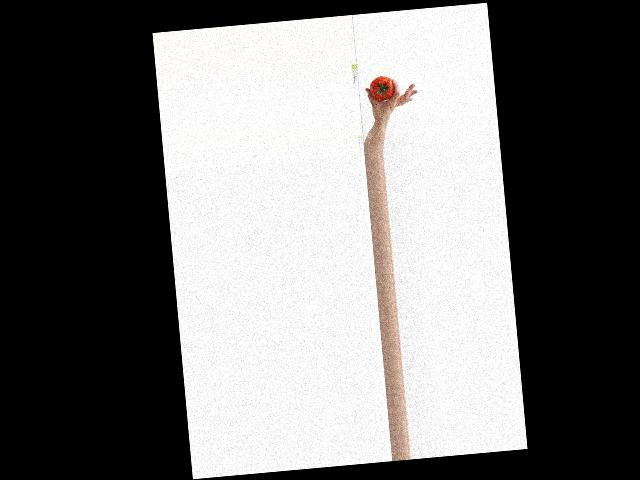tomato: (368, 75, 395, 102)
